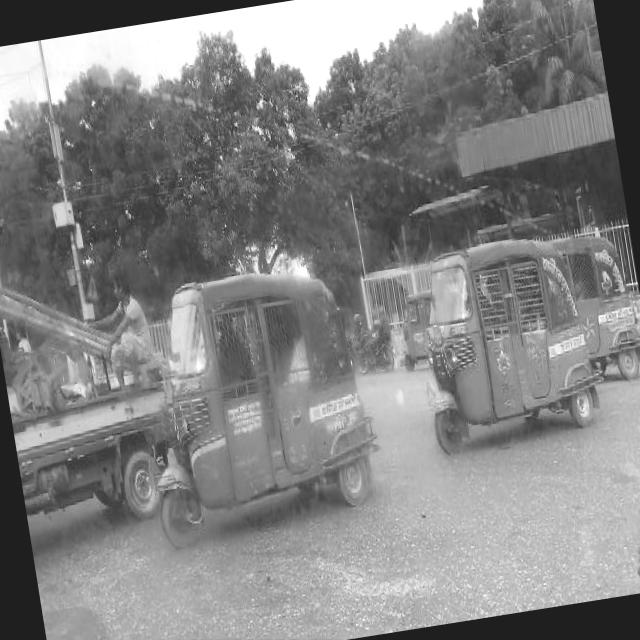motorcycle: (153, 259, 377, 542), (406, 227, 600, 450), (568, 226, 640, 387), (392, 289, 438, 375), (354, 327, 398, 376)
truck: (7, 349, 190, 551)
